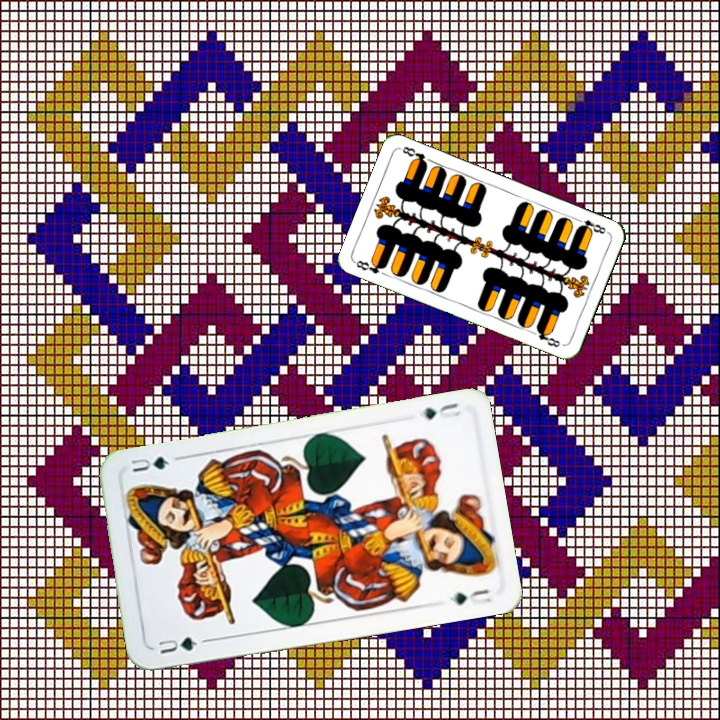E8: (572, 214, 608, 237), (351, 256, 389, 276)
GU: (154, 632, 210, 657), (418, 399, 463, 422)
